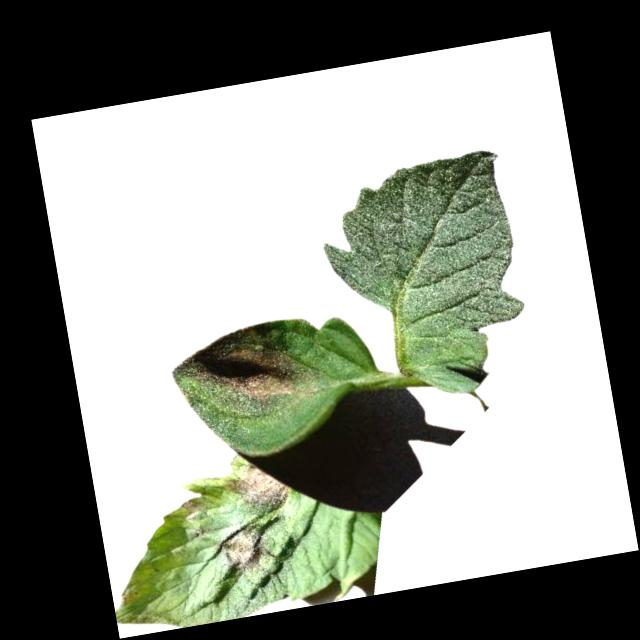Late_blight: (170, 319, 299, 413), (224, 458, 294, 520), (211, 521, 275, 577), (179, 493, 204, 517), (119, 584, 141, 607)
healthy: (310, 146, 538, 414)
